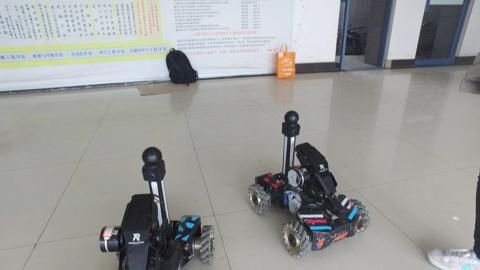bag: (264, 40, 302, 86), (161, 47, 205, 85)
chariot: (244, 106, 375, 257), (88, 141, 219, 269)
